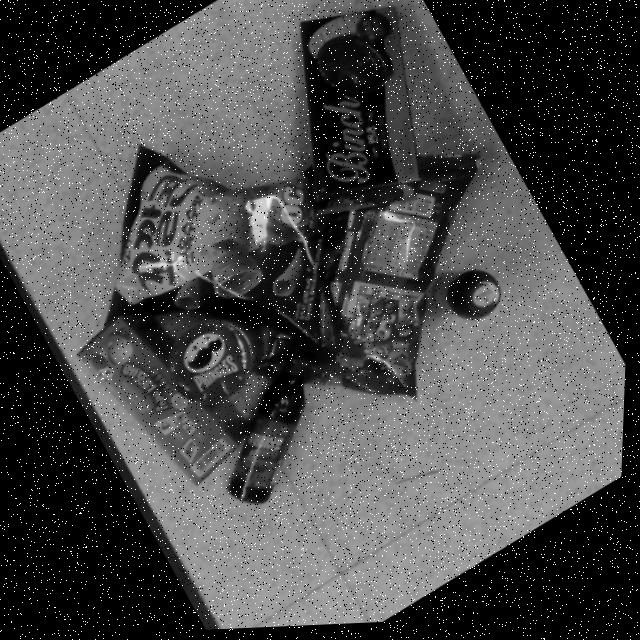bongji: (260, 158, 480, 403), (107, 147, 349, 347)
box: (78, 318, 251, 488), (300, 10, 419, 216)
canSnack: (168, 312, 264, 407)
energdrink: (230, 359, 313, 508), (435, 274, 503, 324)
